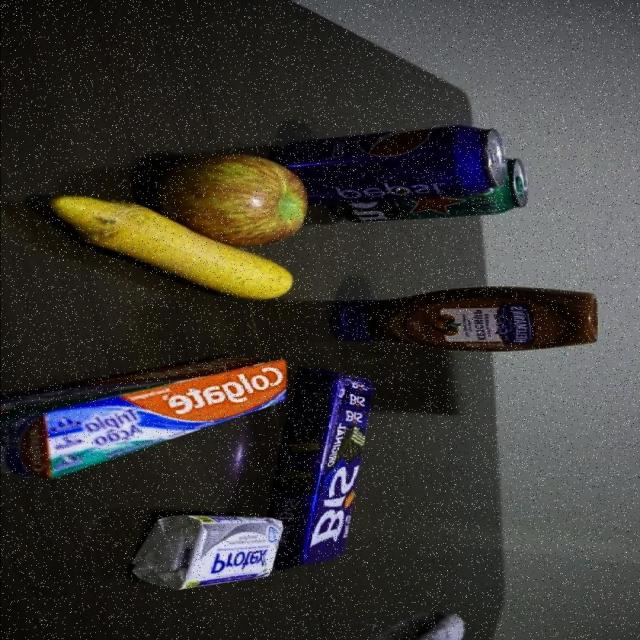Apple: (161, 147, 304, 245)
BeerCan: (327, 198, 529, 226)
Carrot: (65, 241, 296, 302)
Ketchup: (341, 287, 601, 354)
Soap: (132, 513, 278, 583)
SodaCan: (310, 128, 504, 193)
Toothpaste: (0, 352, 284, 479)
